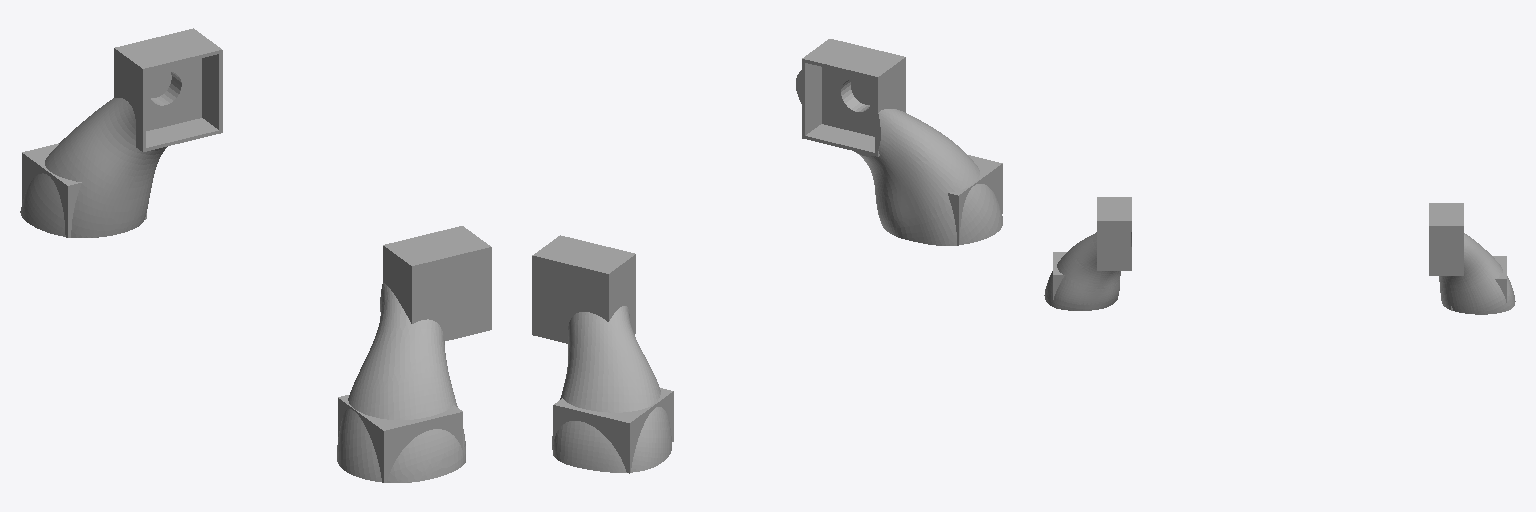
robot.urdf — FrogBot1_top-FrogBot1-z-0_bottom-FrogBot1-z-0:
<?xml version="1.0" ?>
<robot name="FrogBot1_top-FrogBot1-z-0_bottom-FrogBot1-z-0">

<material name="pla_5_percent_infill">
  <color rgba="0.700 0.700 0.700 1.000"/>
</material>

<link name="base_link">
  <inertial>
    <origin xyz="0 0 0" rpy="0 0 0"/>
    <mass value="1.4004497258118793"/>
    <inertia ixx="0.004654766674121702" iyy="0.011001674494048192" izz="0.011952500664607962" ixy="0.0001512981896173" iyz="8.432942841691681e-05" ixz="-0.0012085280118511537"/>
  </inertial>
  <visual>
    <origin xyz="0 0 0" rpy="0 0 0"/>
    <geometry>
      <mesh filename="simple_meshes/base_link.stl" scale="0.001 0.001 0.001"/>
    </geometry>
    <material name="pla_5_percent_infill"/>
  </visual>
  <collision>
    <origin xyz="0 0 0" rpy="0 0 0"/>
    <geometry>
      <mesh filename="simple_meshes/base_link.stl" scale="0.001 0.001 0.001"/>
    </geometry>
  </collision>
</link>

<link name="body_1_0_1">
  <inertial>
    <origin xyz="-0.045735 -0.109621 -0.00462" rpy="0 0 0"/>
    <mass value="0.02985675796874187"/>
    <inertia ixx="1.9965789332193075e-05" iyy="2.2269328809030093e-05" izz="1.237757588374124e-05" ixy="-3.4976885941156847e-07" iyz="1.6092377650222747e-06" ixz="3.671999030421702e-07"/>
  </inertial>
  <visual>
    <origin xyz="-0.045735 -0.109621 -0.00462" rpy="0 0 0"/>
    <geometry>
      <mesh filename="simple_meshes/body_1_0_1.stl" scale="0.001 0.001 0.001"/>
    </geometry>
    <material name="pla_5_percent_infill"/>
  </visual>
  <collision>
    <origin xyz="-0.045735 -0.109621 -0.00462" rpy="0 0 0"/>
    <geometry>
      <mesh filename="simple_meshes/body_1_0_1.stl" scale="0.001 0.001 0.001"/>
    </geometry>
  </collision>
</link>

<link name="body_1_1_1">
  <inertial>
    <origin xyz="0.086489 -0.109621 -0.018802" rpy="0 0 0"/>
    <mass value="0.053275121493263654"/>
    <inertia ixx="4.494924320703293e-05" iyy="5.271663552110521e-05" izz="3.476670392337563e-05" ixy="5.27992926881507e-06" iyz="8.686807295757253e-06" ixz="-1.442203618004261e-05"/>
  </inertial>
  <visual>
    <origin xyz="0.086489 -0.109621 -0.018802" rpy="0 0 0"/>
    <geometry>
      <mesh filename="simple_meshes/body_1_1_1.stl" scale="0.001 0.001 0.001"/>
    </geometry>
    <material name="pla_5_percent_infill"/>
  </visual>
  <collision>
    <origin xyz="0.086489 -0.109621 -0.018802" rpy="0 0 0"/>
    <geometry>
      <mesh filename="simple_meshes/body_1_1_1.stl" scale="0.001 0.001 0.001"/>
    </geometry>
  </collision>
</link>

<link name="body_1_2_1">
  <inertial>
    <origin xyz="-0.040267 0.109621 -0.027764" rpy="0 0 0"/>
    <mass value="0.04172224875919728"/>
    <inertia ixx="4.52033054099475e-05" iyy="4.523069432340121e-05" izz="1.9466059030194246e-05" ixy="5.043630176276436e-07" iyz="-8.936531513050563e-06" ixz="-1.8113554935331094e-07"/>
  </inertial>
  <visual>
    <origin xyz="-0.040267 0.109621 -0.027764" rpy="0 0 0"/>
    <geometry>
      <mesh filename="simple_meshes/body_1_2_1.stl" scale="0.001 0.001 0.001"/>
    </geometry>
    <material name="pla_5_percent_infill"/>
  </visual>
  <collision>
    <origin xyz="-0.040267 0.109621 -0.027764" rpy="0 0 0"/>
    <geometry>
      <mesh filename="simple_meshes/body_1_2_1.stl" scale="0.001 0.001 0.001"/>
    </geometry>
  </collision>
</link>

<link name="body_1_3_1">
  <inertial>
    <origin xyz="0.090407 0.109621 -0.022193" rpy="0 0 0"/>
    <mass value="0.056174967464945734"/>
    <inertia ixx="5.0714087468781664e-05" iyy="6.091726275633271e-05" izz="4.007261065643378e-05" ixy="-6.6082206118707465e-06" iyz="-1.0712778268412947e-05" ixz="-1.7655180141284206e-05"/>
  </inertial>
  <visual>
    <origin xyz="0.090407 0.109621 -0.022193" rpy="0 0 0"/>
    <geometry>
      <mesh filename="simple_meshes/body_1_3_1.stl" scale="0.001 0.001 0.001"/>
    </geometry>
    <material name="pla_5_percent_infill"/>
  </visual>
  <collision>
    <origin xyz="0.090407 0.109621 -0.022193" rpy="0 0 0"/>
    <geometry>
      <mesh filename="simple_meshes/body_1_3_1.stl" scale="0.001 0.001 0.001"/>
    </geometry>
  </collision>
</link>

<link name="body_2_0_1">
  <inertial>
    <origin xyz="-0.049562 -0.158797 0.075064" rpy="0 0 0"/>
    <mass value="0.08251740555525651"/>
    <inertia ixx="8.106255273684871e-05" iyy="8.893154428530519e-05" izz="0.0001232193056868577" ixy="-4.4170967081818766e-06" iyz="-1.608469961641816e-06" ixz="1.7699188966968193e-05"/>
  </inertial>
  <visual>
    <origin xyz="-0.049562 -0.158797 0.075064" rpy="0 0 0"/>
    <geometry>
      <mesh filename="simple_meshes/body_2_0_1.stl" scale="0.001 0.001 0.001"/>
    </geometry>
    <material name="pla_5_percent_infill"/>
  </visual>
  <collision>
    <origin xyz="-0.049562 -0.158797 0.075064" rpy="0 0 0"/>
    <geometry>
      <mesh filename="simple_meshes/body_2_0_1.stl" scale="0.001 0.001 0.001"/>
    </geometry>
  </collision>
</link>

<link name="body_2_1_1">
  <inertial>
    <origin xyz="0.121182 -0.172952 0.075064" rpy="0 0 0"/>
    <mass value="0.08523650293632644"/>
    <inertia ixx="8.320480295517189e-05" iyy="8.705693414718437e-05" izz="0.00012197956265966878" ixy="3.5528741173310174e-06" iyz="1.0871477220619763e-05" ixz="2.1334721156689076e-05"/>
  </inertial>
  <visual>
    <origin xyz="0.121182 -0.172952 0.075064" rpy="0 0 0"/>
    <geometry>
      <mesh filename="simple_meshes/body_2_1_1.stl" scale="0.001 0.001 0.001"/>
    </geometry>
    <material name="pla_5_percent_infill"/>
  </visual>
  <collision>
    <origin xyz="0.121182 -0.172952 0.075064" rpy="0 0 0"/>
    <geometry>
      <mesh filename="simple_meshes/body_2_1_1.stl" scale="0.001 0.001 0.001"/>
    </geometry>
  </collision>
</link>

<link name="body_2_2_1">
  <inertial>
    <origin xyz="-0.04311 0.169506 0.075064" rpy="0 0 0"/>
    <mass value="0.08378108136187434"/>
    <inertia ixx="9.006082595894565e-05" iyy="8.121880302503935e-05" izz="0.00012624519557985405" ixy="5.722796236582199e-07" iyz="-4.994704549210558e-06" ixz="1.2195561658612198e-05"/>
  </inertial>
  <visual>
    <origin xyz="-0.04311 0.169506 0.075064" rpy="0 0 0"/>
    <geometry>
      <mesh filename="simple_meshes/body_2_2_1.stl" scale="0.001 0.001 0.001"/>
    </geometry>
    <material name="pla_5_percent_infill"/>
  </visual>
  <collision>
    <origin xyz="-0.04311 0.169506 0.075064" rpy="0 0 0"/>
    <geometry>
      <mesh filename="simple_meshes/body_2_2_1.stl" scale="0.001 0.001 0.001"/>
    </geometry>
  </collision>
</link>

<link name="body_2_3_1">
  <inertial>
    <origin xyz="0.129712 0.174384 0.075064" rpy="0 0 0"/>
    <mass value="0.08379398246620173"/>
    <inertia ixx="8.948004701911285e-05" iyy="8.144872210769224e-05" izz="0.00011365197820321655" ixy="3.1693798347538424e-06" iyz="-1.6380802465583866e-05" ixz="2.1485763885160545e-05"/>
  </inertial>
  <visual>
    <origin xyz="0.129712 0.174384 0.075064" rpy="0 0 0"/>
    <geometry>
      <mesh filename="simple_meshes/body_2_3_1.stl" scale="0.001 0.001 0.001"/>
    </geometry>
    <material name="pla_5_percent_infill"/>
  </visual>
  <collision>
    <origin xyz="0.129712 0.174384 0.075064" rpy="0 0 0"/>
    <geometry>
      <mesh filename="simple_meshes/body_2_3_1.stl" scale="0.001 0.001 0.001"/>
    </geometry>
  </collision>
</link>

<joint name="joint_1_0" type="revolute">
  <origin xyz="0.045735 0.109621 0.00462" rpy="0 0 0"/>
  <parent link="base_link"/>
  <child link="body_1_0_1"/>
  <axis xyz="0.0 1.0 0.0"/>
  <limit upper="1.2" lower="-1.2" effort="3.8" velocity="5.4"/>
</joint>
<transmission name="joint_1_0_tran">
  <type>transmission_interface/SimpleTransmission</type>
  <joint name="joint_1_0">
    <hardwareInterface>PositionJointInterface</hardwareInterface>
  </joint>
  <actuator name="joint_1_0_actr">
    <hardwareInterface>PositionJointInterface</hardwareInterface>
    <mechanicalReduction>1</mechanicalReduction>
  </actuator>
</transmission>

<joint name="joint_1_1" type="revolute">
  <origin xyz="-0.086489 0.109621 0.018802" rpy="0 0 0"/>
  <parent link="base_link"/>
  <child link="body_1_1_1"/>
  <axis xyz="0.0 1.0 0.0"/>
  <limit upper="1.2" lower="-1.2" effort="3.8" velocity="5.4"/>
</joint>
<transmission name="joint_1_1_tran">
  <type>transmission_interface/SimpleTransmission</type>
  <joint name="joint_1_1">
    <hardwareInterface>PositionJointInterface</hardwareInterface>
  </joint>
  <actuator name="joint_1_1_actr">
    <hardwareInterface>PositionJointInterface</hardwareInterface>
    <mechanicalReduction>1</mechanicalReduction>
  </actuator>
</transmission>

<joint name="joint_1_2" type="revolute">
  <origin xyz="0.040267 -0.109621 0.027764" rpy="0 0 0"/>
  <parent link="base_link"/>
  <child link="body_1_2_1"/>
  <axis xyz="0.0 1.0 0.0"/>
  <limit upper="1.2" lower="-1.2" effort="3.8" velocity="5.4"/>
</joint>
<transmission name="joint_1_2_tran">
  <type>transmission_interface/SimpleTransmission</type>
  <joint name="joint_1_2">
    <hardwareInterface>PositionJointInterface</hardwareInterface>
  </joint>
  <actuator name="joint_1_2_actr">
    <hardwareInterface>PositionJointInterface</hardwareInterface>
    <mechanicalReduction>1</mechanicalReduction>
  </actuator>
</transmission>

<joint name="joint_1_3" type="revolute">
  <origin xyz="-0.090407 -0.109621 0.022193" rpy="0 0 0"/>
  <parent link="base_link"/>
  <child link="body_1_3_1"/>
  <axis xyz="0.0 1.0 0.0"/>
  <limit upper="1.2" lower="-1.2" effort="3.8" velocity="5.4"/>
</joint>
<transmission name="joint_1_3_tran">
  <type>transmission_interface/SimpleTransmission</type>
  <joint name="joint_1_3">
    <hardwareInterface>PositionJointInterface</hardwareInterface>
  </joint>
  <actuator name="joint_1_3_actr">
    <hardwareInterface>PositionJointInterface</hardwareInterface>
    <mechanicalReduction>1</mechanicalReduction>
  </actuator>
</transmission>

<joint name="joint_2_0" type="revolute">
  <origin xyz="0.003827 0.049176 -0.079684" rpy="0 0 0"/>
  <parent link="body_1_0_1"/>
  <child link="body_2_0_1"/>
  <axis xyz="0.0 0.0 1.0"/>
  <limit upper="1.2" lower="-1.2" effort="3.8" velocity="5.4"/>
</joint>
<transmission name="joint_2_0_tran">
  <type>transmission_interface/SimpleTransmission</type>
  <joint name="joint_2_0">
    <hardwareInterface>PositionJointInterface</hardwareInterface>
  </joint>
  <actuator name="joint_2_0_actr">
    <hardwareInterface>PositionJointInterface</hardwareInterface>
    <mechanicalReduction>1</mechanicalReduction>
  </actuator>
</transmission>

<joint name="joint_2_1" type="revolute">
  <origin xyz="-0.034693 0.063331 -0.093866" rpy="0 0 0"/>
  <parent link="body_1_1_1"/>
  <child link="body_2_1_1"/>
  <axis xyz="0.0 0.0 1.0"/>
  <limit upper="1.2" lower="-1.2" effort="3.8" velocity="5.4"/>
</joint>
<transmission name="joint_2_1_tran">
  <type>transmission_interface/SimpleTransmission</type>
  <joint name="joint_2_1">
    <hardwareInterface>PositionJointInterface</hardwareInterface>
  </joint>
  <actuator name="joint_2_1_actr">
    <hardwareInterface>PositionJointInterface</hardwareInterface>
    <mechanicalReduction>1</mechanicalReduction>
  </actuator>
</transmission>

<joint name="joint_2_2" type="revolute">
  <origin xyz="0.002843 -0.059885 -0.102828" rpy="0 0 0"/>
  <parent link="body_1_2_1"/>
  <child link="body_2_2_1"/>
  <axis xyz="0.0 0.0 1.0"/>
  <limit upper="1.2" lower="-1.2" effort="3.8" velocity="5.4"/>
</joint>
<transmission name="joint_2_2_tran">
  <type>transmission_interface/SimpleTransmission</type>
  <joint name="joint_2_2">
    <hardwareInterface>PositionJointInterface</hardwareInterface>
  </joint>
  <actuator name="joint_2_2_actr">
    <hardwareInterface>PositionJointInterface</hardwareInterface>
    <mechanicalReduction>1</mechanicalReduction>
  </actuator>
</transmission>

<joint name="joint_2_3" type="revolute">
  <origin xyz="-0.039305 -0.064763 -0.097257" rpy="0 0 0"/>
  <parent link="body_1_3_1"/>
  <child link="body_2_3_1"/>
  <axis xyz="0.0 0.0 1.0"/>
  <limit upper="1.2" lower="-1.2" effort="3.8" velocity="5.4"/>
</joint>
<transmission name="joint_2_3_tran">
  <type>transmission_interface/SimpleTransmission</type>
  <joint name="joint_2_3">
    <hardwareInterface>PositionJointInterface</hardwareInterface>
  </joint>
  <actuator name="joint_2_3_actr">
    <hardwareInterface>PositionJointInterface</hardwareInterface>
    <mechanicalReduction>1</mechanicalReduction>
  </actuator>
</transmission>

</robot>

--- What the picture shows (computed from the rendered views, not written in the file) ---
Views: 3 orthographic renders of the robot side by side, from view 1: azimuth 30°, elevation 25°; view 2: azimuth 150°, elevation 25°; view 3: azimuth 270°, elevation 25°.
Model FrogBot1_top-FrogBot1-z-0_bottom-FrogBot1-z-0 with 9 links and 8 joints (8 revolute), rooted at base_link, posed every joint at zero.
Links seen in each view (by area): view 1: body_1_3_1, body_1_1_1; view 2: body_1_1_1, body_1_3_1; view 3: body_1_3_1, body_1_1_1.
Link boxes in pixels (x1,y1,x2,y2): body_1_3_1: (337,226,491,482); body_1_1_1: (20,28,222,237); body_1_1_1: (532,235,673,473); body_1_3_1: (796,39,1002,245); body_1_3_1: (1044,197,1131,310); body_1_1_1: (1429,203,1515,314).
Bounding box of the posed robot: 0.1016 × 0.4111 × 0.1016 m (x, y, z).
2 mesh visuals loaded from 9 distinct referenced files (2 binary STL); not drawn: 7 (reference not matched to a file when rendering).